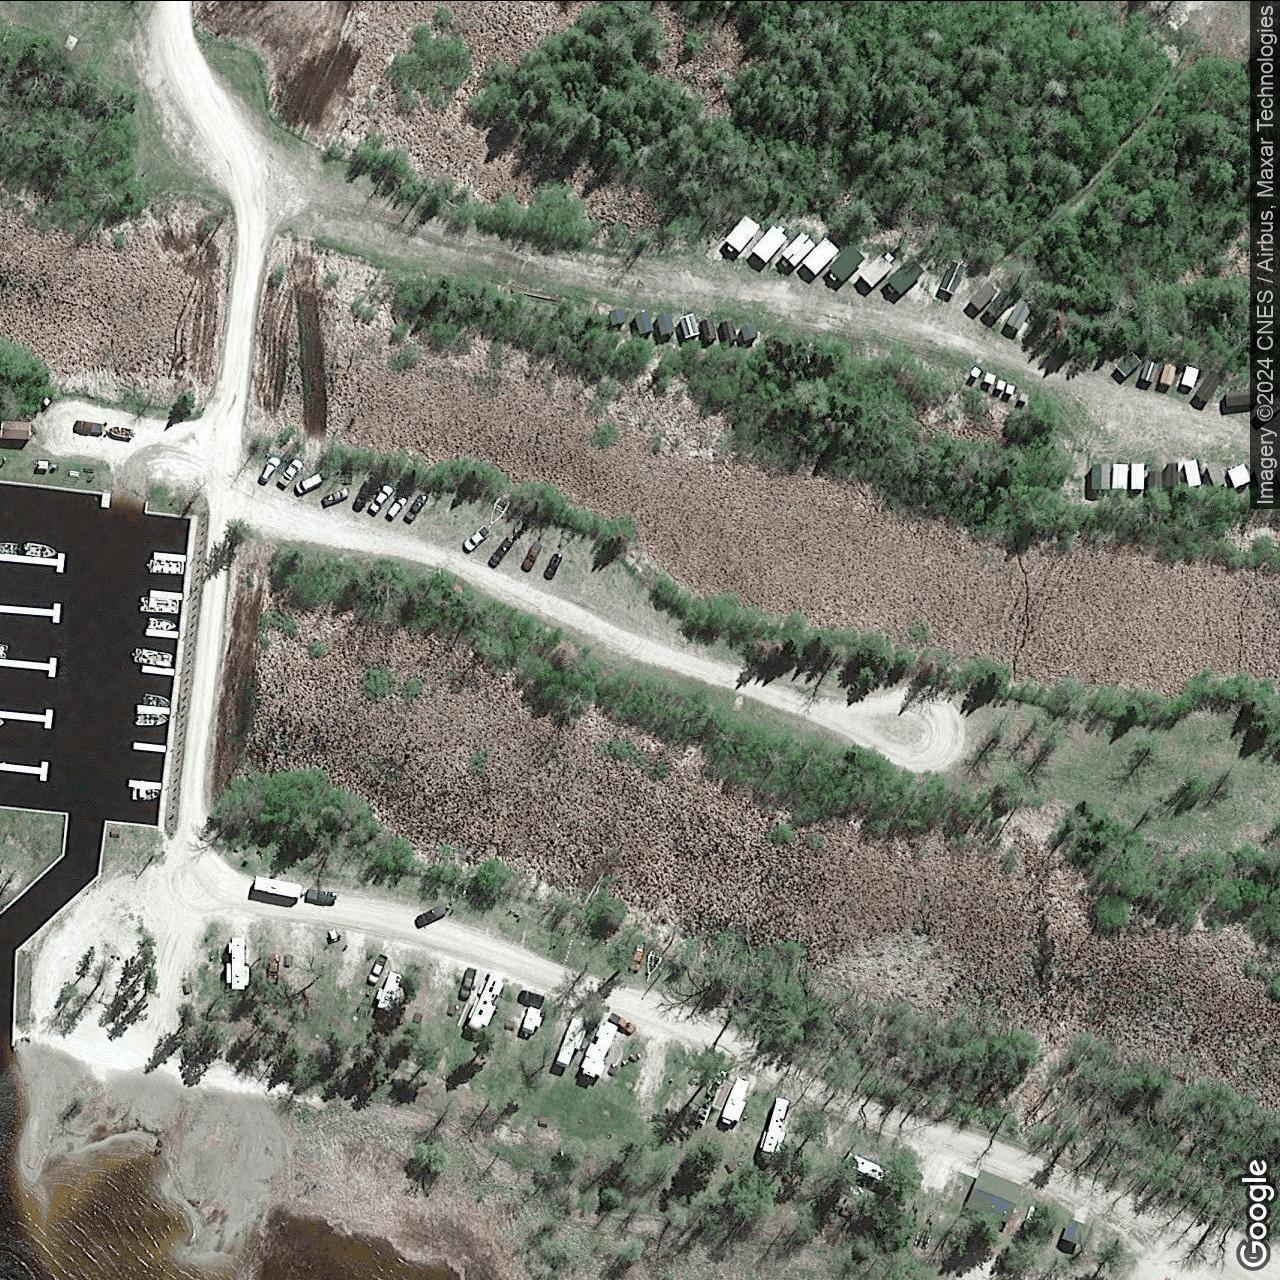Garage: (2, 420, 33, 440)
House: (964, 1165, 1022, 1224)
Other: (940, 259, 967, 293), (987, 287, 1015, 319), (1007, 295, 1030, 329), (969, 281, 996, 309), (1196, 370, 1220, 401), (1115, 349, 1142, 375), (1227, 463, 1251, 488), (1062, 1219, 1084, 1242), (1092, 463, 1110, 489), (1185, 458, 1200, 486), (1180, 365, 1199, 387), (1141, 359, 1159, 381), (1112, 463, 1128, 488), (1226, 390, 1251, 406), (1207, 463, 1226, 483), (1160, 362, 1177, 384), (1131, 463, 1144, 488)
Propane: (1024, 1203, 1037, 1224)
Trailer: (579, 1019, 619, 1077), (467, 973, 504, 1030), (554, 1009, 587, 1068), (721, 211, 762, 257), (883, 257, 926, 299), (824, 244, 866, 287), (750, 220, 791, 263), (760, 1096, 790, 1152), (858, 247, 898, 287), (777, 231, 816, 271), (720, 1076, 750, 1125), (225, 935, 251, 990), (376, 969, 404, 1012), (253, 874, 305, 897), (850, 1152, 887, 1182), (520, 1005, 543, 1041)
